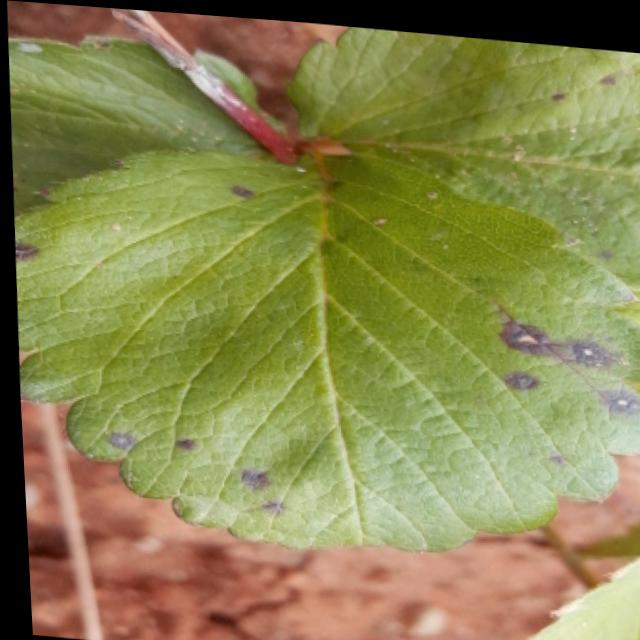Leaf Spot: (10, 142, 640, 549), (285, 21, 640, 286), (6, 30, 291, 213)
